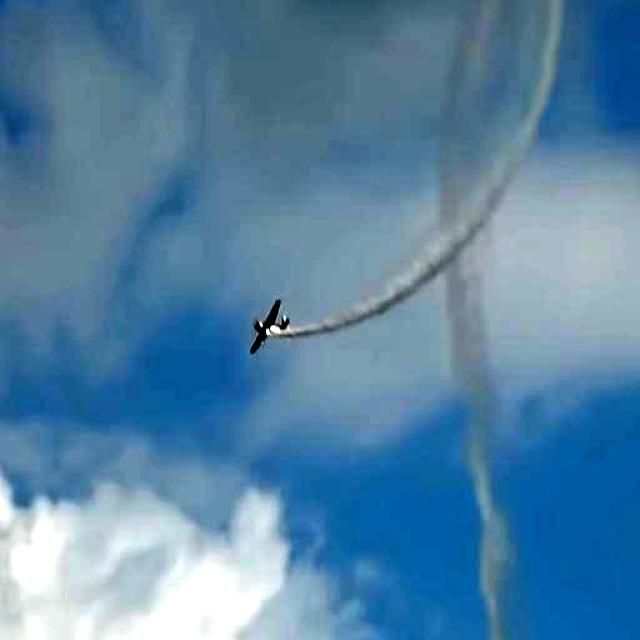0: (249, 291, 298, 360)
drone: (72, 0, 132, 16)
